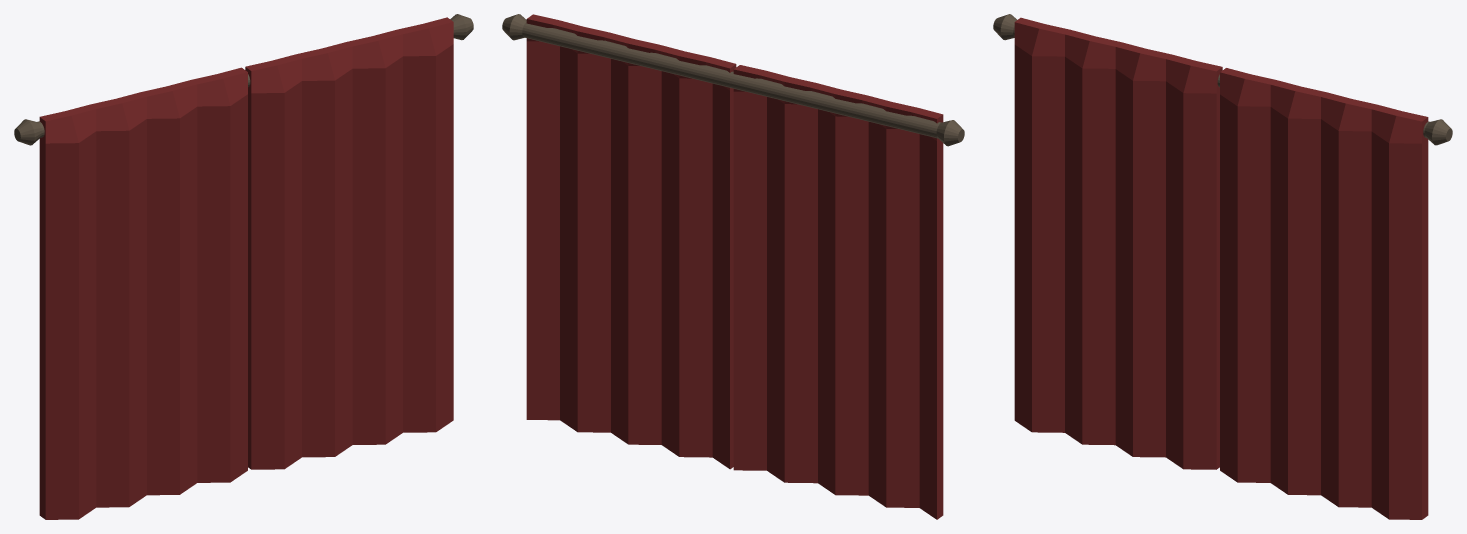
Rendered from CurtainsClosed.fbx.
The picture shows the model from 3 angles, left to right: view 1: azimuth 30°, elevation 25°; view 2: azimuth 150°, elevation 25°; view 3: azimuth 330°, elevation 25°; orthographic projection.
Visible parts, largest first — view 1: CurtainsClosed; view 2: CurtainsClosed; view 3: CurtainsClosed.
Boxes of the visible parts, box(x1,y1,x2,y2) form: CurtainsClosed: box(14, 14, 473, 519); CurtainsClosed: box(502, 14, 964, 519); CurtainsClosed: box(993, 14, 1452, 519).
Bounding box in the file's own units: 247 × 207 × 18.61.
